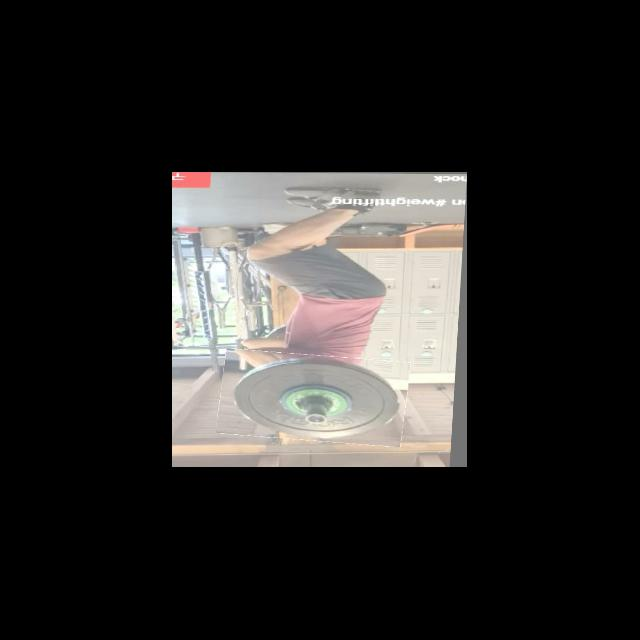barbell: (220, 351, 413, 443)
